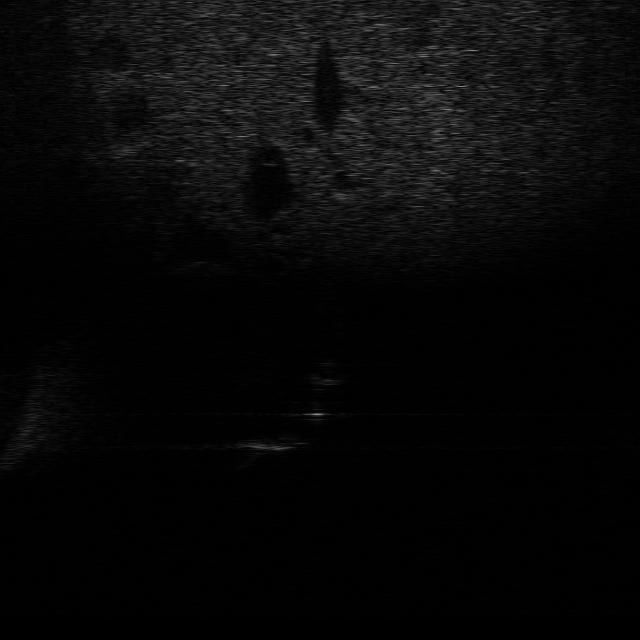ball: (300, 356, 352, 390)
square cage: (225, 430, 310, 459)
tyre: (288, 396, 352, 427)
